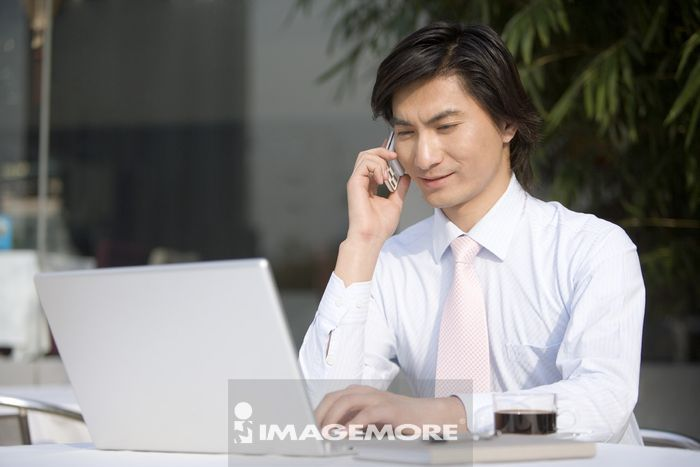phone: (382, 129, 403, 192)
talk: (345, 103, 475, 253)
